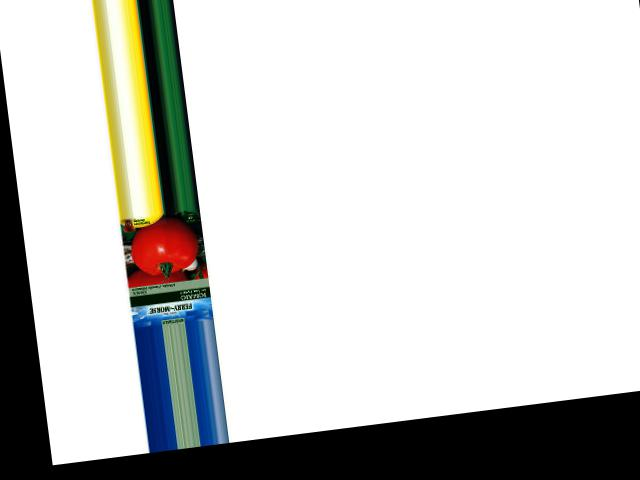tomato: (127, 213, 201, 277)
